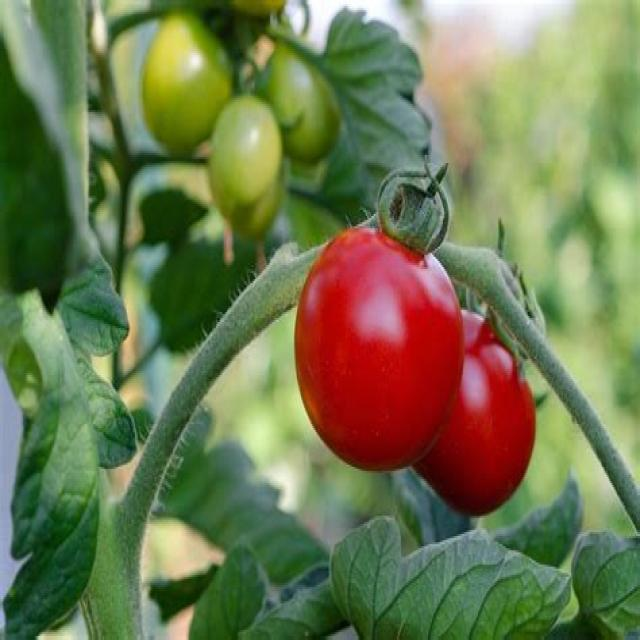Tomato: (294, 215, 466, 475), (415, 314, 537, 520)
